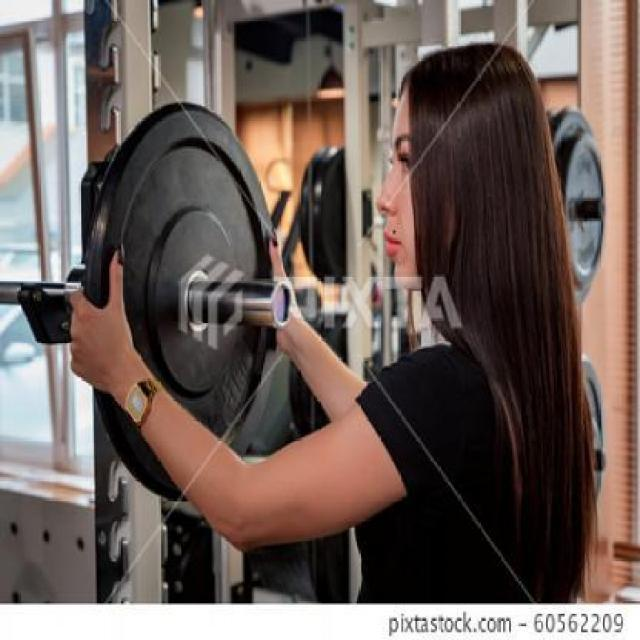Barbell: (262, 276, 296, 336)
